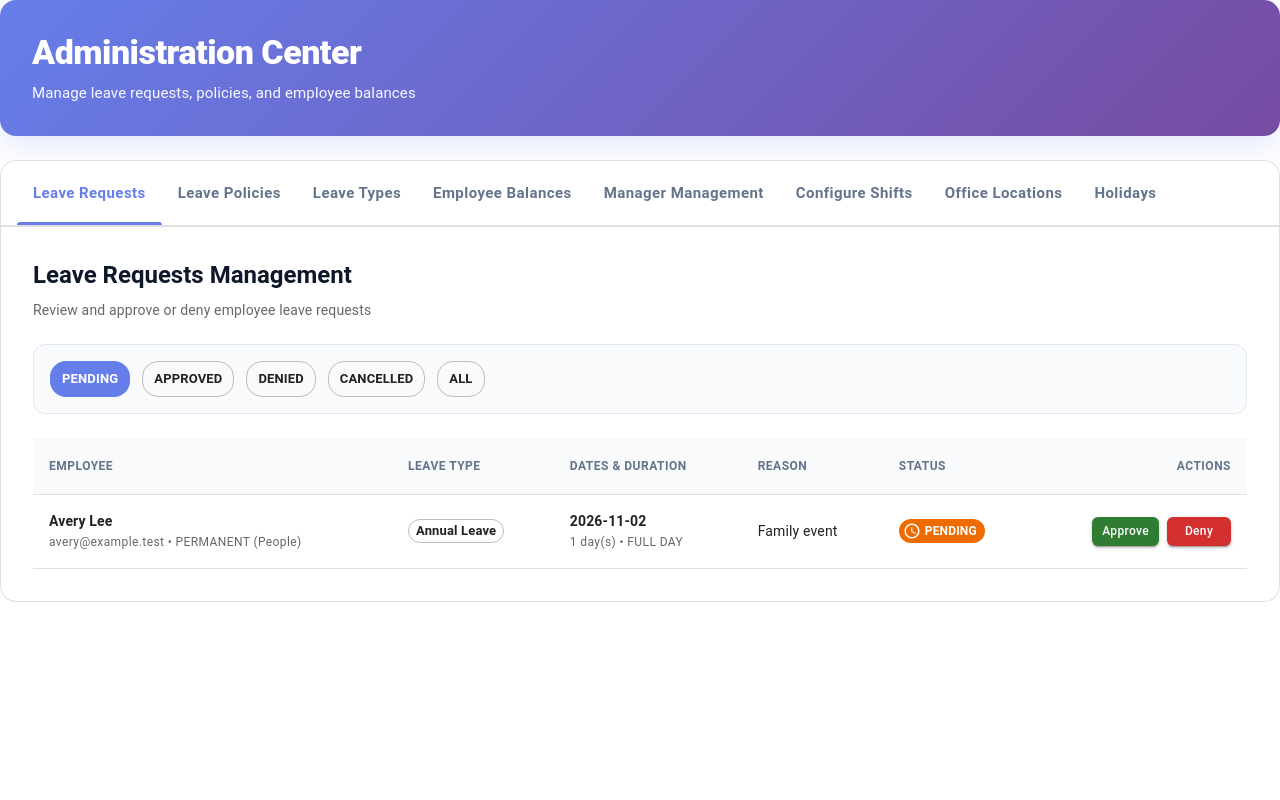
shows a server validation error when an office location cannot be saved
The image size is (1280, 800).
Step 1. Click the tab "Office Locations" → (1004, 194), box [929,162,1078,226]
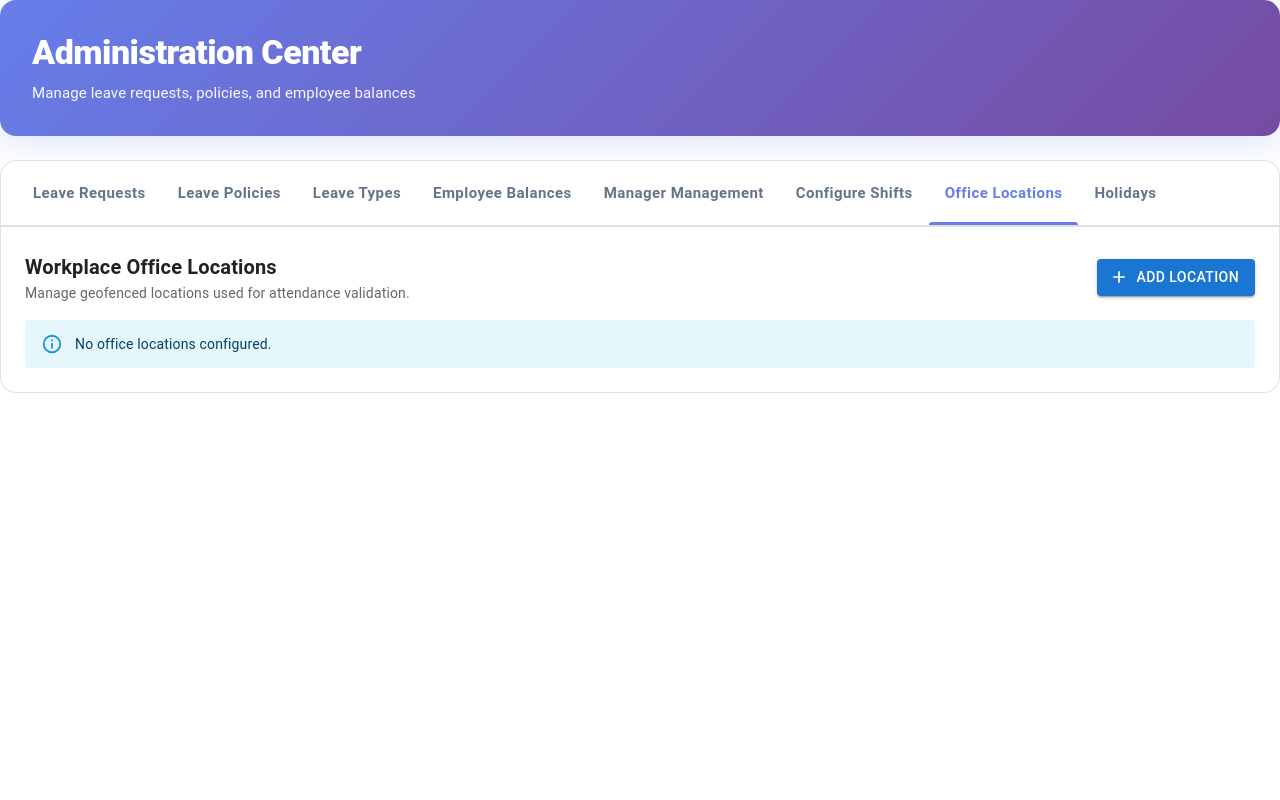
Step 2. Click the button "Add Location" → (1176, 277), box [1097,259,1255,296]
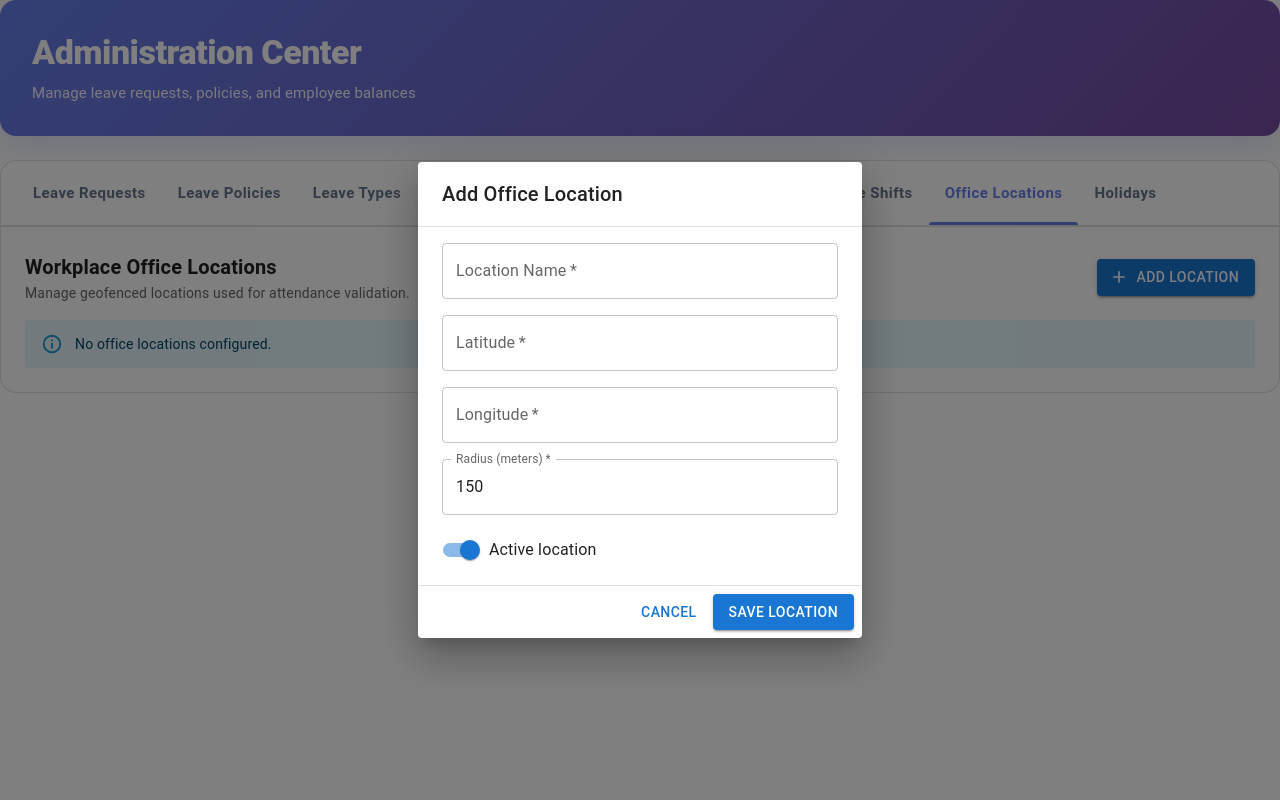
Step 3. Type "Portland Office" into the field labelled "Location Name" → (640, 271), box [442,243,838,299]
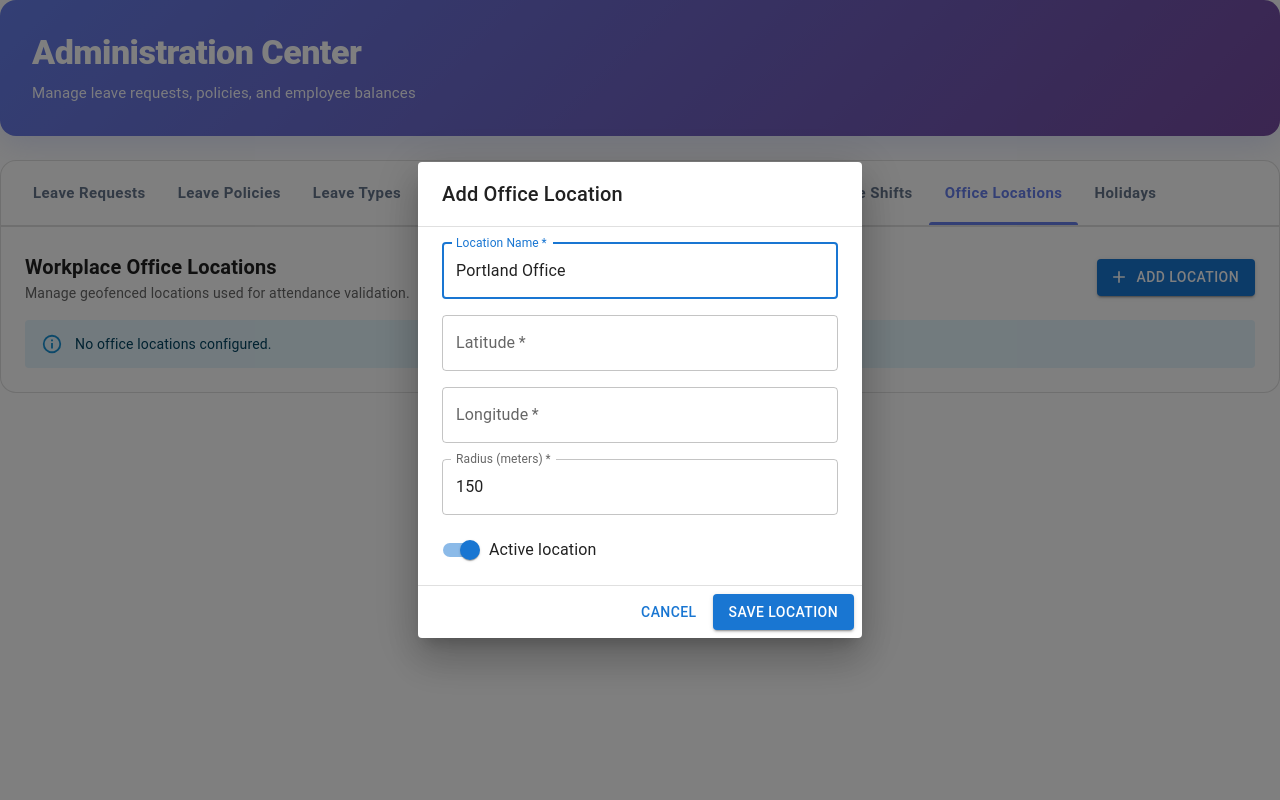
Step 4. Type "45.5" into the number field labelled "Latitude" → (640, 343), box [442,315,838,371]
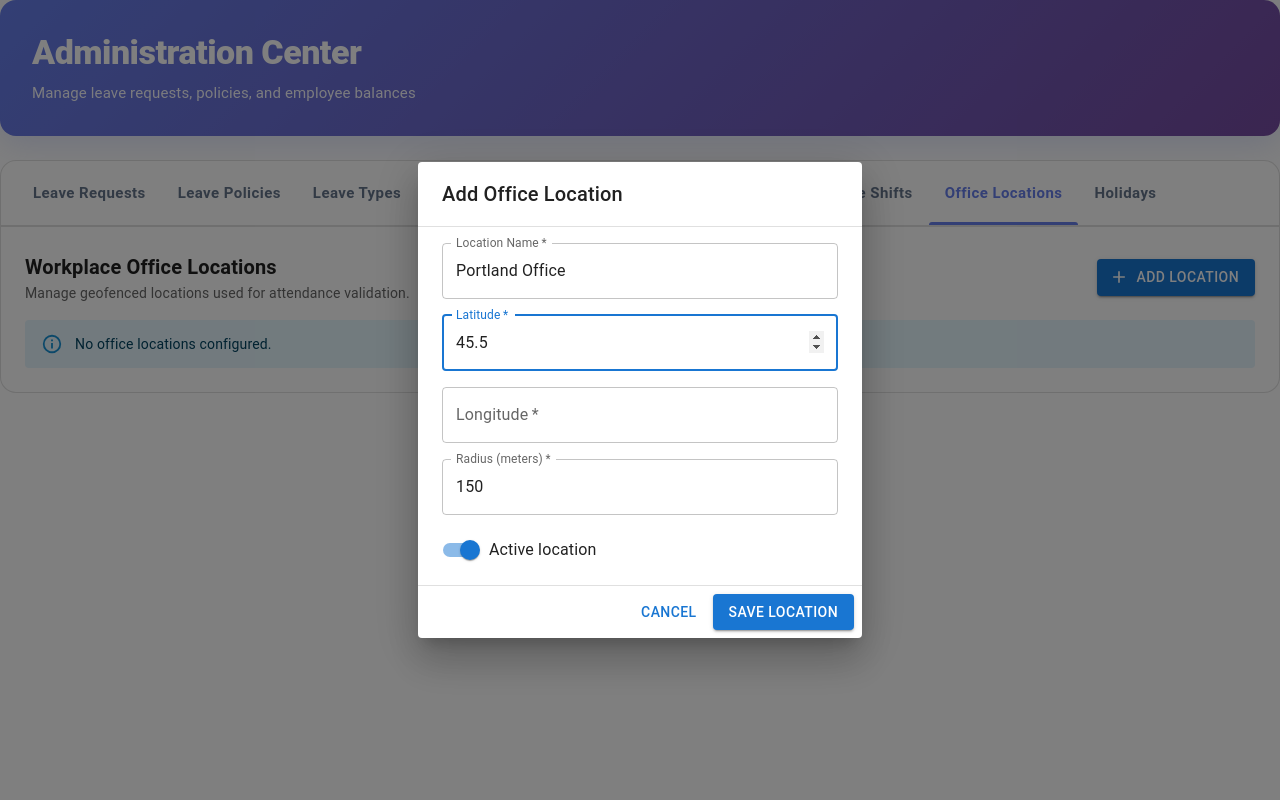
Step 5. Type "-122.6" into the number field labelled "Longitude" → (640, 415), box [442,387,838,443]
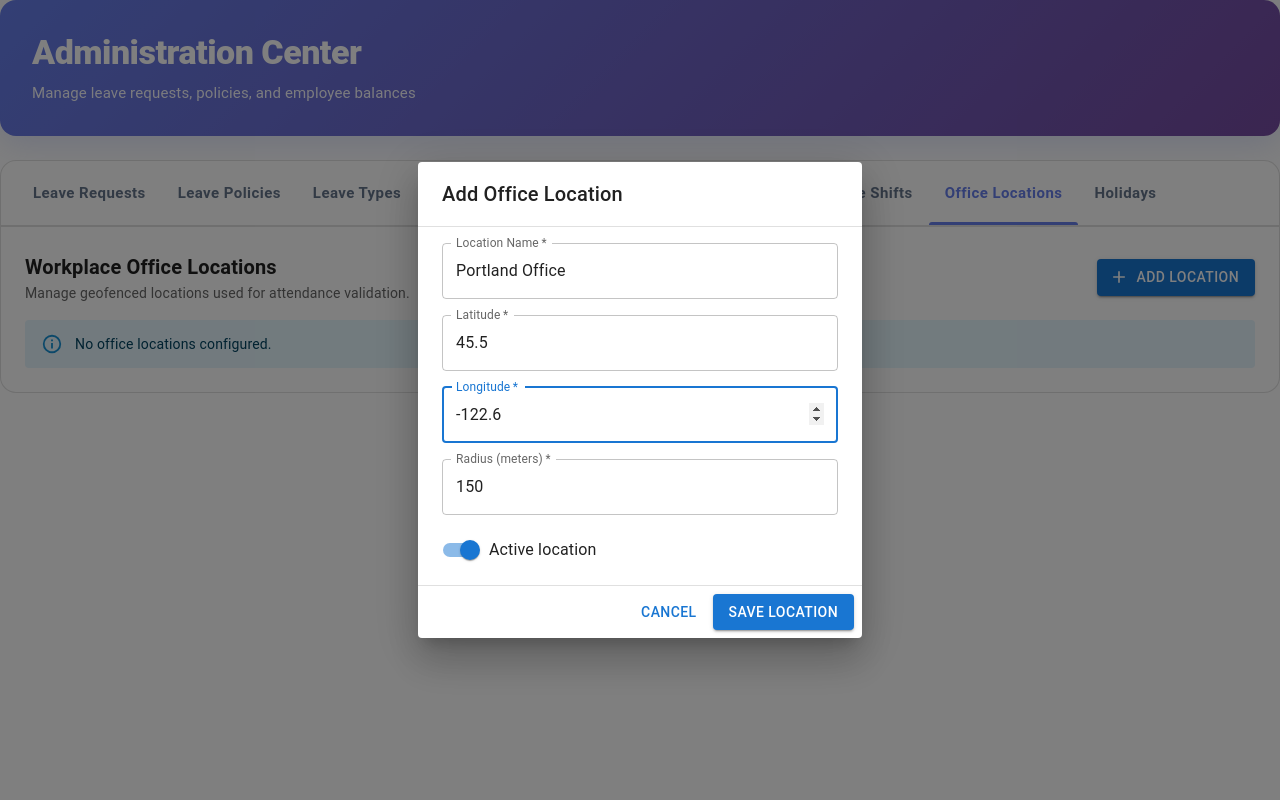
Step 6. Click the button "Save Location" → (783, 612), box [713,594,854,630]
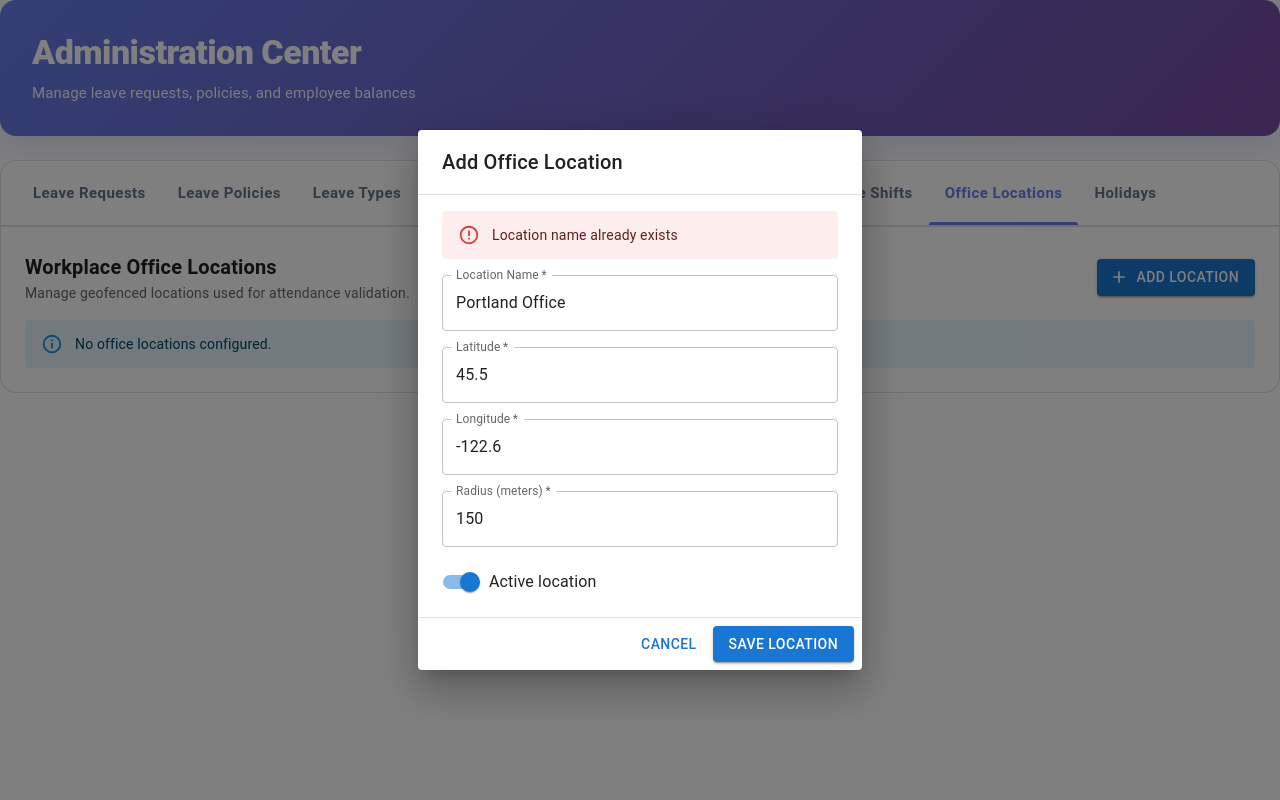
Check: the text "Location name already exists" is shown, box [492,227,678,243]
